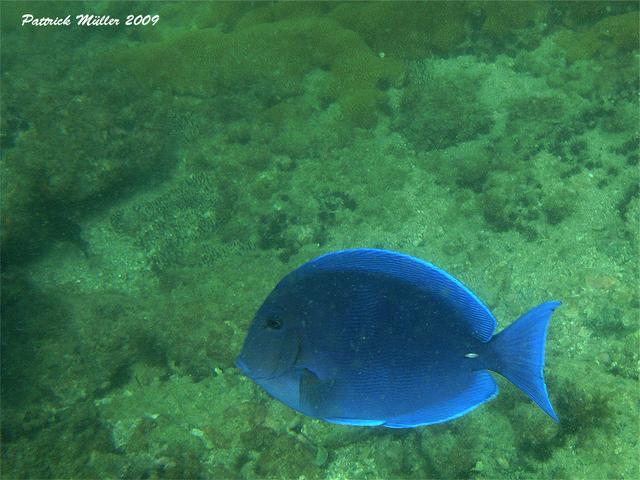fish: (186, 221, 589, 434)
